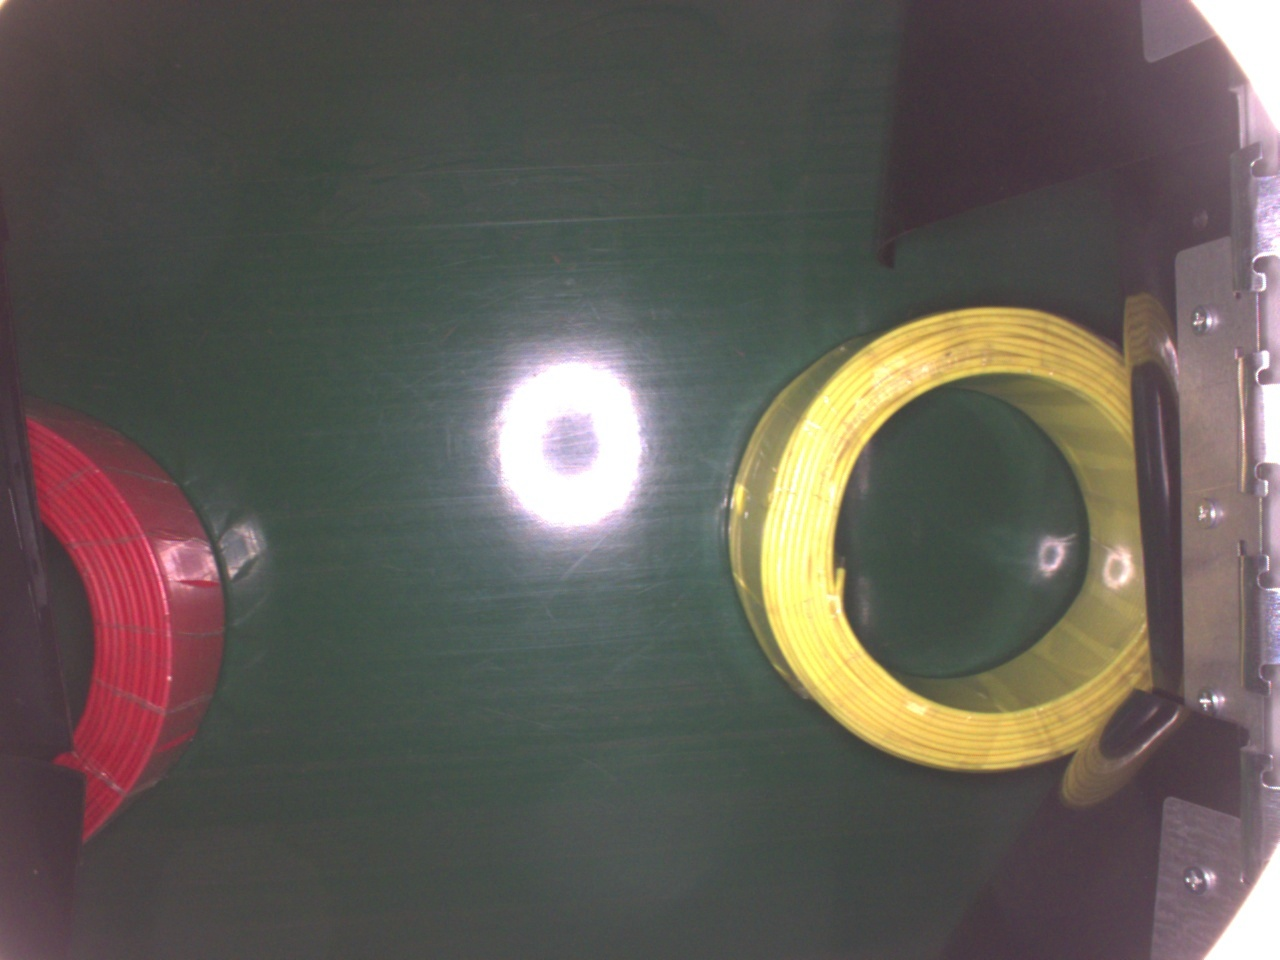red: (27, 401, 224, 838)
yellow: (723, 302, 1151, 768)
